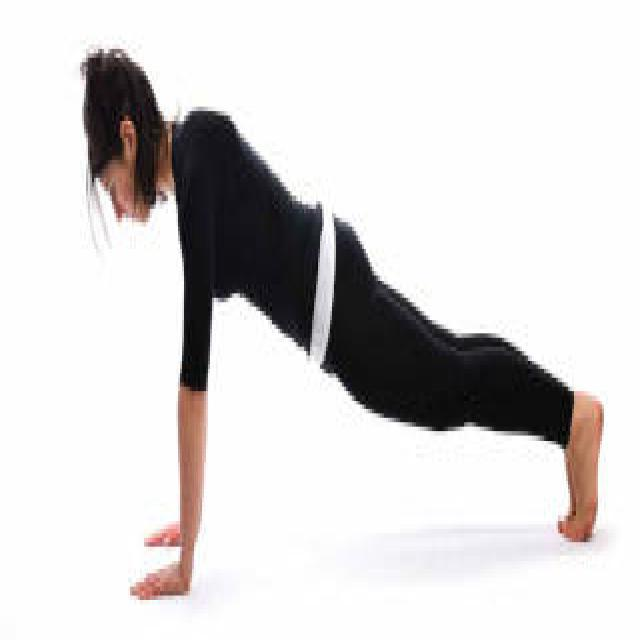yoga-pose plank: (66, 47, 604, 606)
